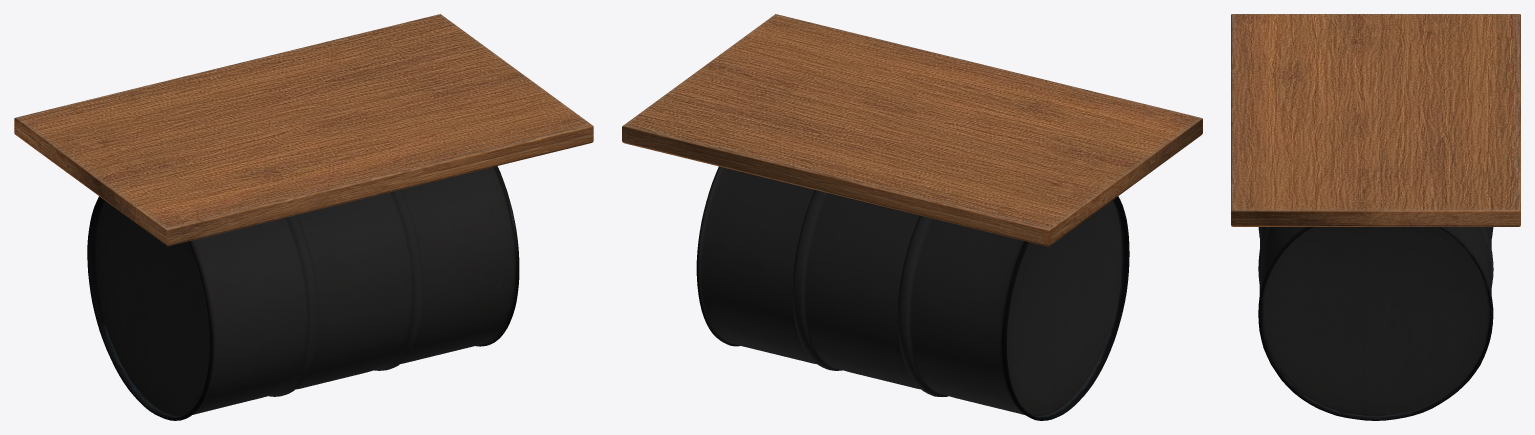
File: bbqsmith_barrel_table.glb
3 renders of one model, left to right at view 1: azimuth 30°, elevation 25°; view 2: azimuth 150°, elevation 25°; view 3: azimuth 270°, elevation 25°, orthographic. The views are drawn at different scales.
Parts seen in each view (by area): view 1: tripo_node_2de7d050-257d-48d8-b6da-75be3ce1d9e3; view 2: tripo_node_2de7d050-257d-48d8-b6da-75be3ce1d9e3; view 3: tripo_node_2de7d050-257d-48d8-b6da-75be3ce1d9e3.
Boxes of the visible parts, bbox=[...] form: tripo_node_2de7d050-257d-48d8-b6da-75be3ce1d9e3: bbox=[14, 14, 593, 420]; tripo_node_2de7d050-257d-48d8-b6da-75be3ce1d9e3: bbox=[622, 14, 1202, 420]; tripo_node_2de7d050-257d-48d8-b6da-75be3ce1d9e3: bbox=[1231, 14, 1520, 420].
Bounding box in the file's own units: 0.9995 × 0.5659 × 0.6216.
Materials: 1 (1 with a texture image).
